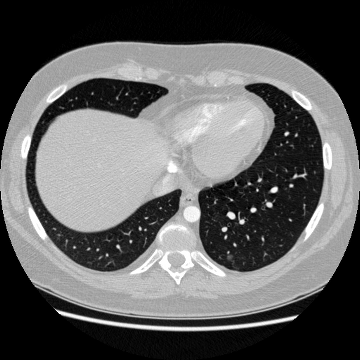nodule: (227, 254, 233, 260)
